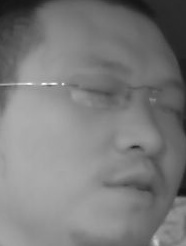glass: (65, 70, 133, 111)
mouth: (109, 169, 165, 207)
